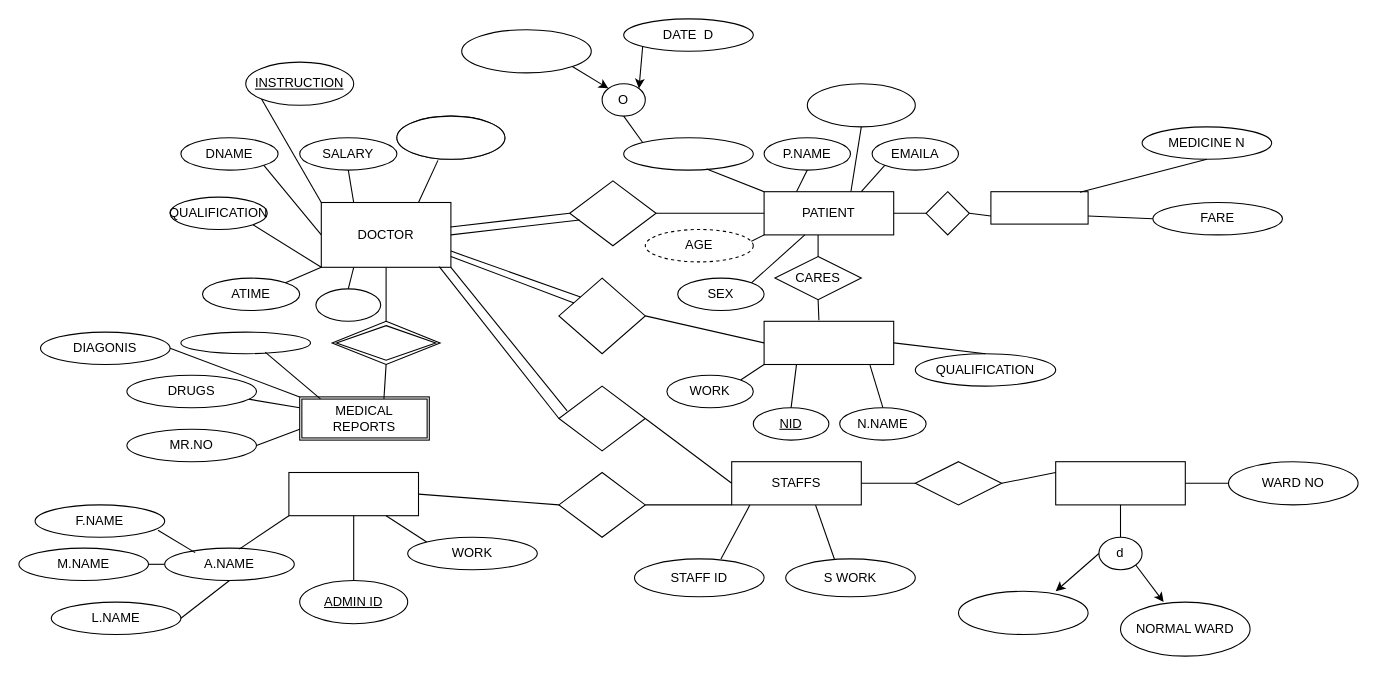
Some shapes in this 1377 by 675 pixel diagram are drawn without their labels. The shapes that lost their labels are listed below. From the top down, each one's box as (x1, y1, x2, y2) in pixels, then its label:
(461, 29, 591, 73): DATE A
(806, 83, 915, 127): P.ID
(396, 115, 505, 159): DOCTORID
(623, 137, 753, 170): P.DETAILS
(569, 180, 656, 246): EXAMINE
(925, 191, 969, 235): BUYS
(990, 191, 1088, 224): MEDICAL SHOP
(315, 288, 381, 321): DTIME
(558, 277, 645, 354): GUIDE
(180, 331, 310, 354): DATES
(331, 320, 440, 364): GO THROUGH
(763, 320, 894, 364): NURSE
(558, 385, 645, 451): ORDERS
(288, 471, 418, 516): ADMIN
(914, 461, 1002, 505): SHIFTS P
(1055, 461, 1185, 505): WARD
(558, 471, 645, 537): CONTROLS
(957, 590, 1088, 634): ICU
